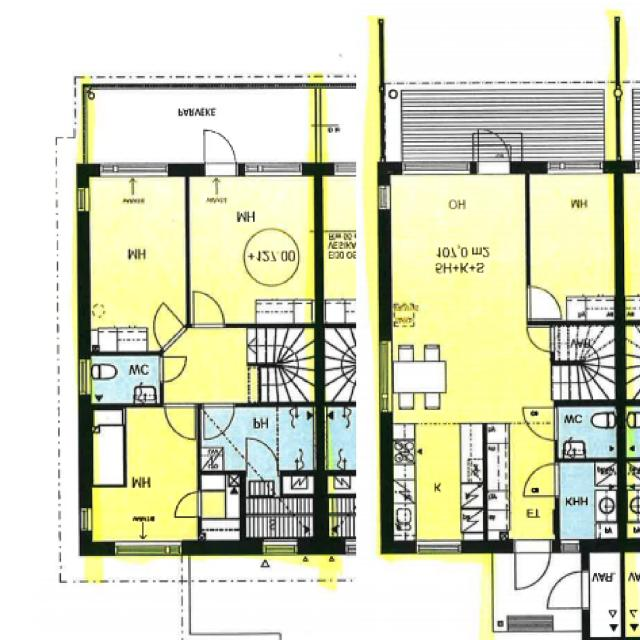door: (142, 305, 187, 352), (515, 539, 553, 592), (543, 570, 591, 610), (477, 126, 511, 174), (204, 129, 237, 175), (203, 402, 236, 443), (247, 436, 279, 476), (526, 284, 562, 318), (164, 402, 195, 441), (522, 464, 558, 496), (522, 408, 558, 440), (194, 292, 225, 329), (172, 489, 202, 516), (159, 357, 189, 384), (526, 327, 554, 352)
